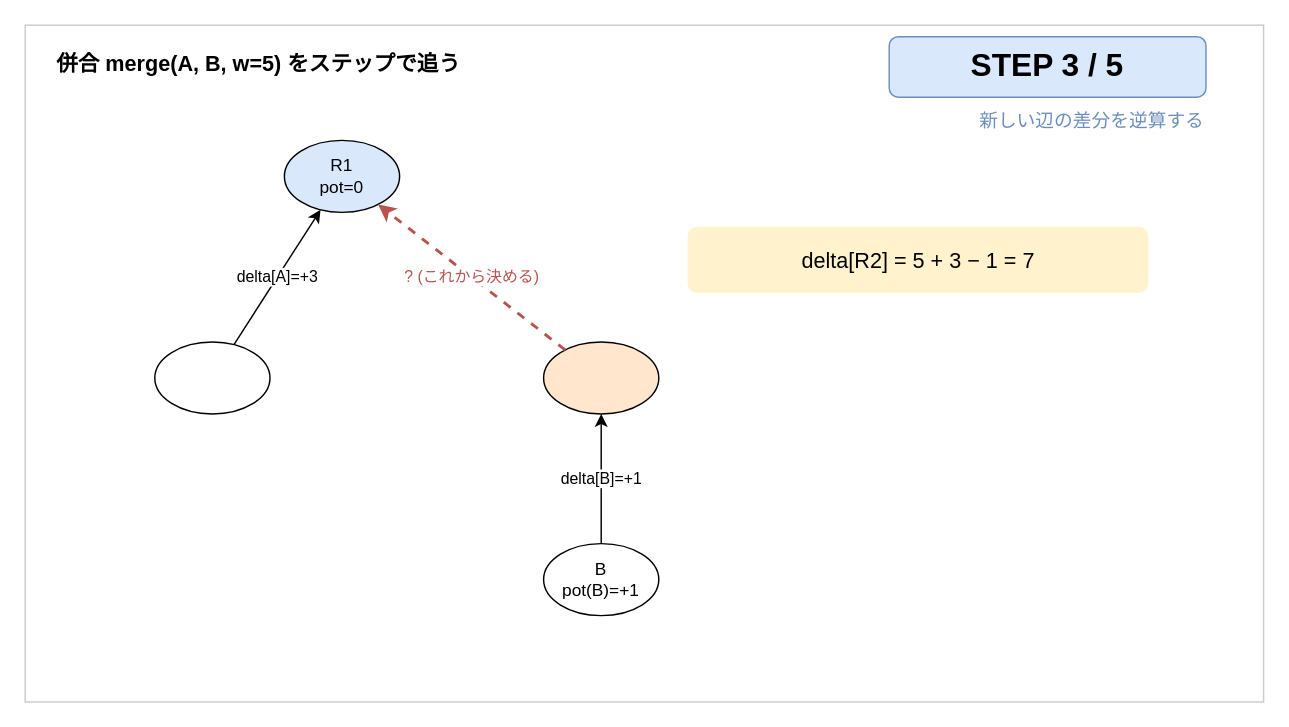
Some shapes in this 1289 by 727 pixel diagram are drawn without their labels. Each missing label, with the box of its shape:
A pot(A)=+3: (153, 341, 270, 414)
R2 pot=0: (542, 341, 659, 414)
